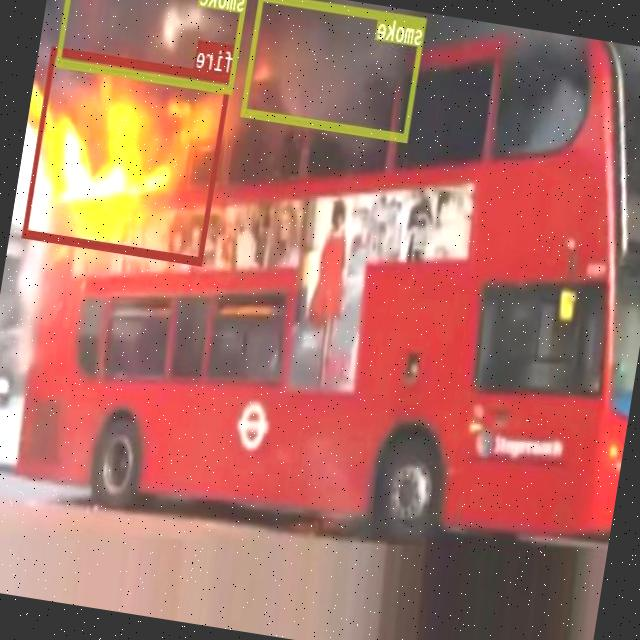fire: (22, 45, 234, 264)
smoke: (242, 0, 428, 140), (56, 0, 250, 92)
